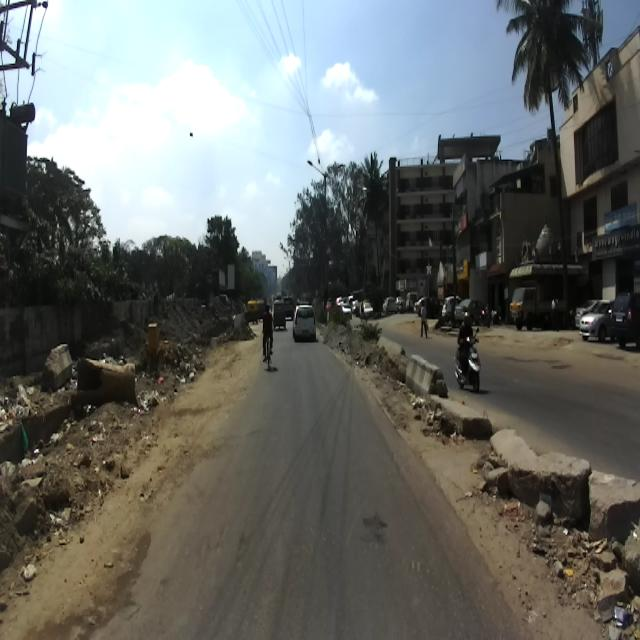stones ahead at: (6, 346, 140, 482), (482, 411, 596, 531), (370, 332, 447, 404)
